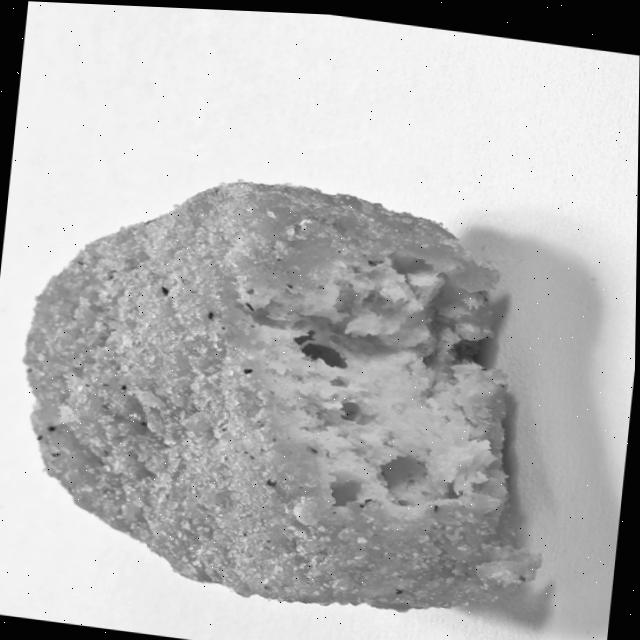鸡肉料理 含炸鸡: (0, 106, 620, 640)
